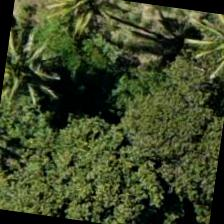Kelapa_Sawit: (0, 18, 81, 118), (21, 0, 118, 52), (182, 10, 223, 86)
